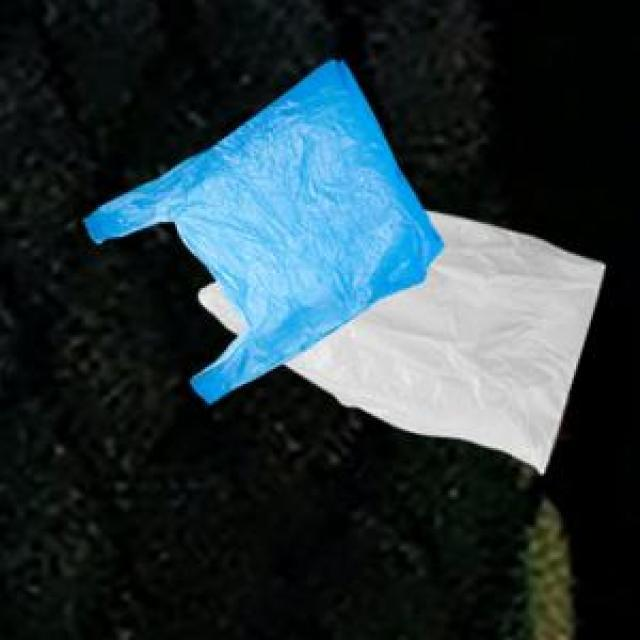waste: (84, 61, 444, 406)
